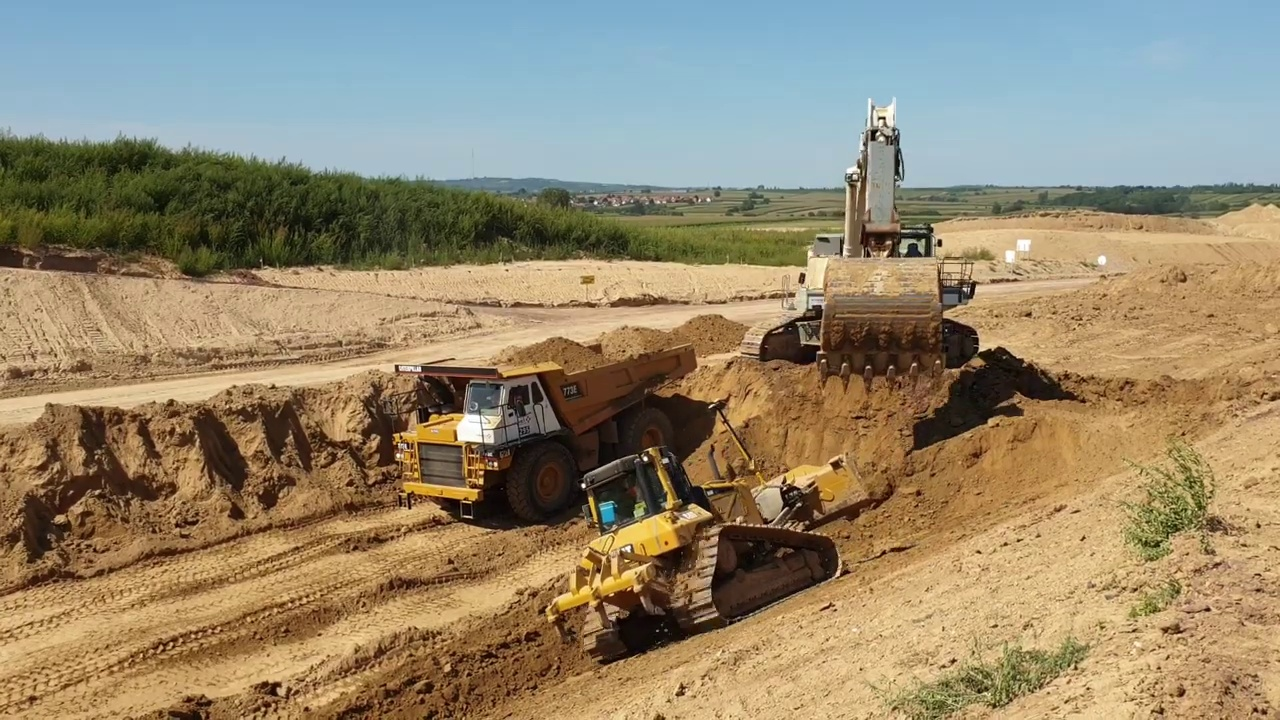bulldozer: (547, 443, 877, 668)
excavator: (736, 92, 987, 399)
truck: (391, 343, 705, 528)
